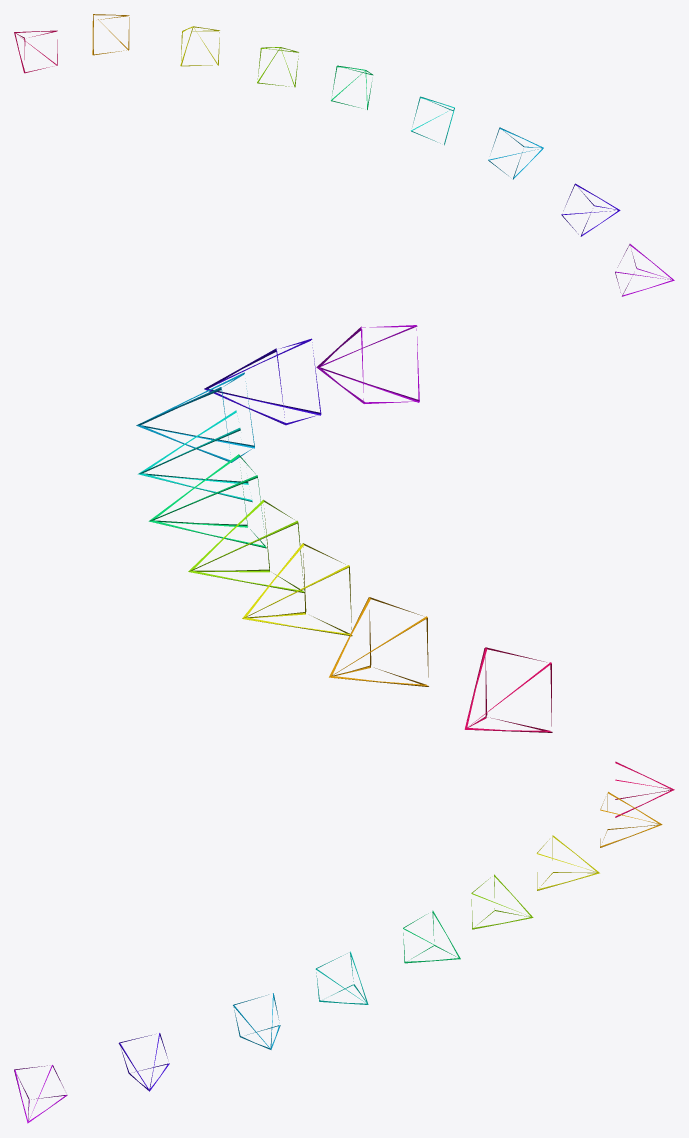
File: sparse.glb
3 renders of one model, top to bottom at view 1: azimuth 30°, elevation 25°; view 2: azimuth 150°, elevation 25°; view 3: azimuth 270°, elevation 25°, orthographic. The views are drawn at different scales.
Visible parts, largest first — view 1: world; view 2: world; view 3: world.
Part boxes in pixels (x1,y1,x2,y2): world: (14,14,674,296); world: (136,325,552,732); world: (14,761,674,1123).
Bounding box in the file's own units: 3.74 × 1.39 × 5.03.
